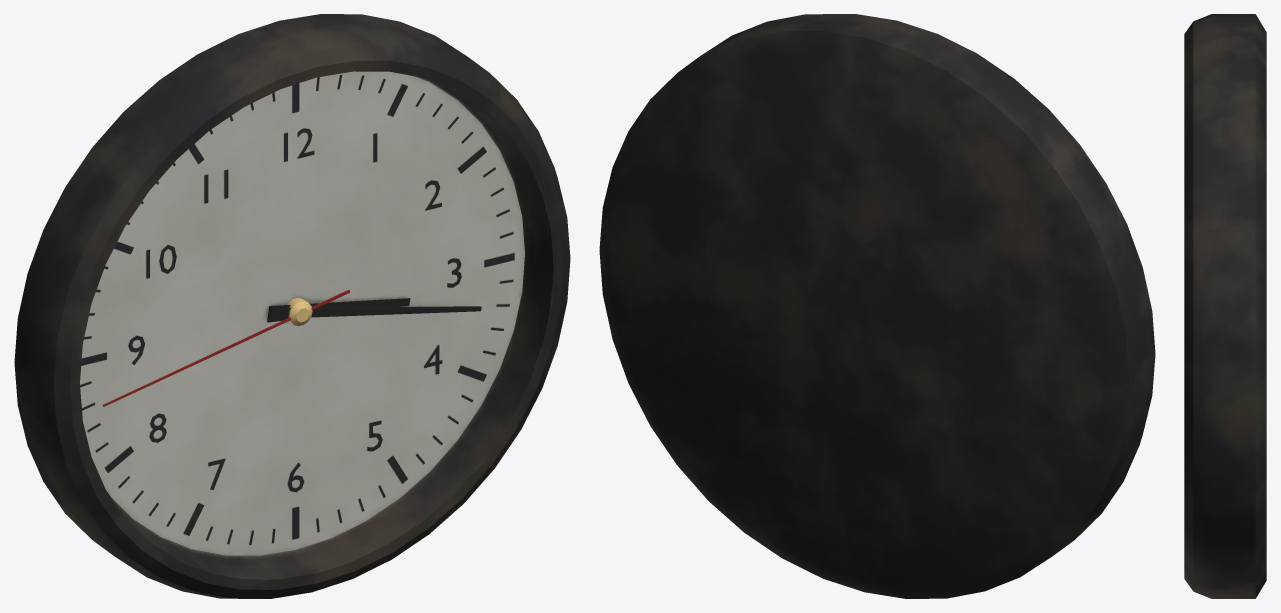
Rendered from relogio_parede.glb.
The picture shows the model from 3 angles, left to right: view 1: azimuth 30°, elevation 25°; view 2: azimuth 150°, elevation 25°; view 3: azimuth 270°, elevation 25°; orthographic projection. The views are drawn at different scales.
Visible parts, largest first — view 1: relogio; view 2: relogio; view 3: relogio.
Part boxes in pixels (bbox=[...]): relogio: bbox=[14, 14, 570, 598]; relogio: bbox=[599, 14, 1155, 598]; relogio: bbox=[1184, 14, 1266, 598].
Bounding box in the file's own units: 0.32 × 0.32 × 0.045.
Materials: 1 (1 with a texture image).
